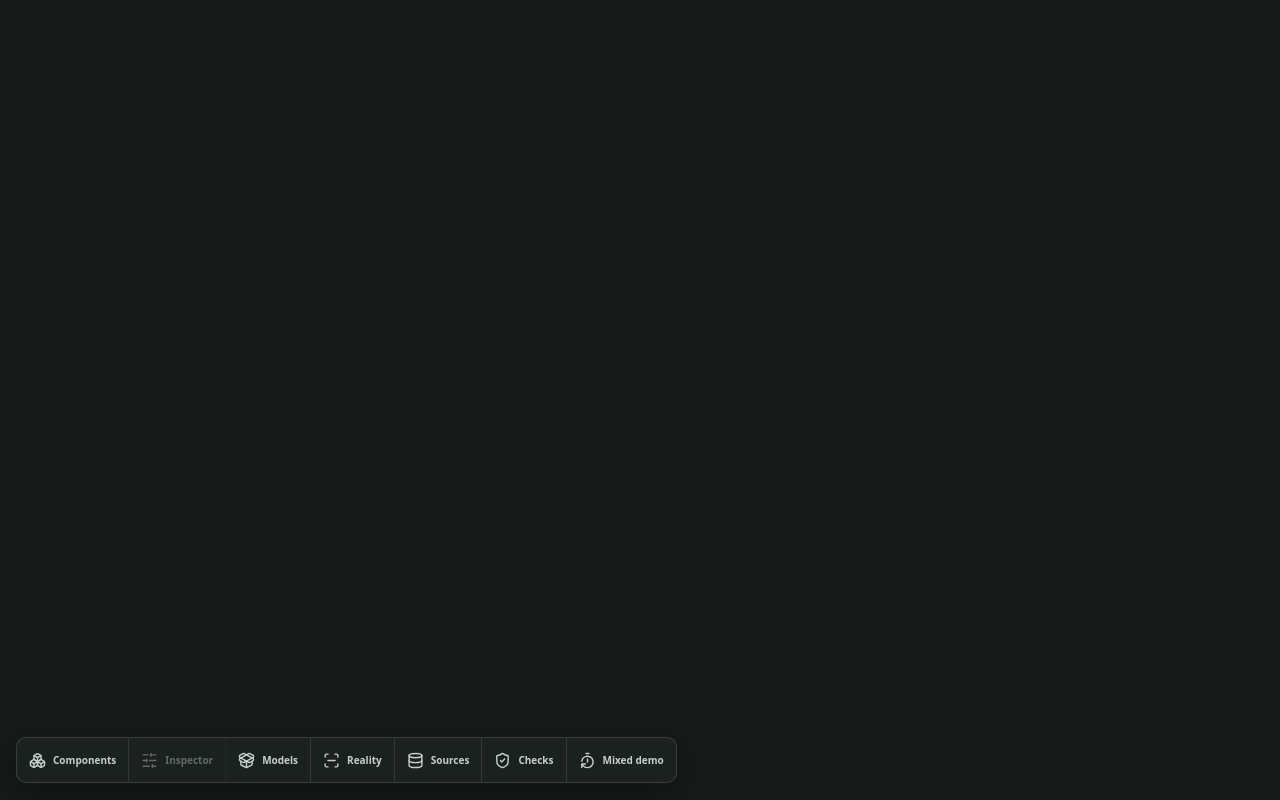
Scenario: Workspace model library › moves from a model export preflight into the Workspace Checks panel
Click the button "Models" at (269, 760), box [226,738,311,782]
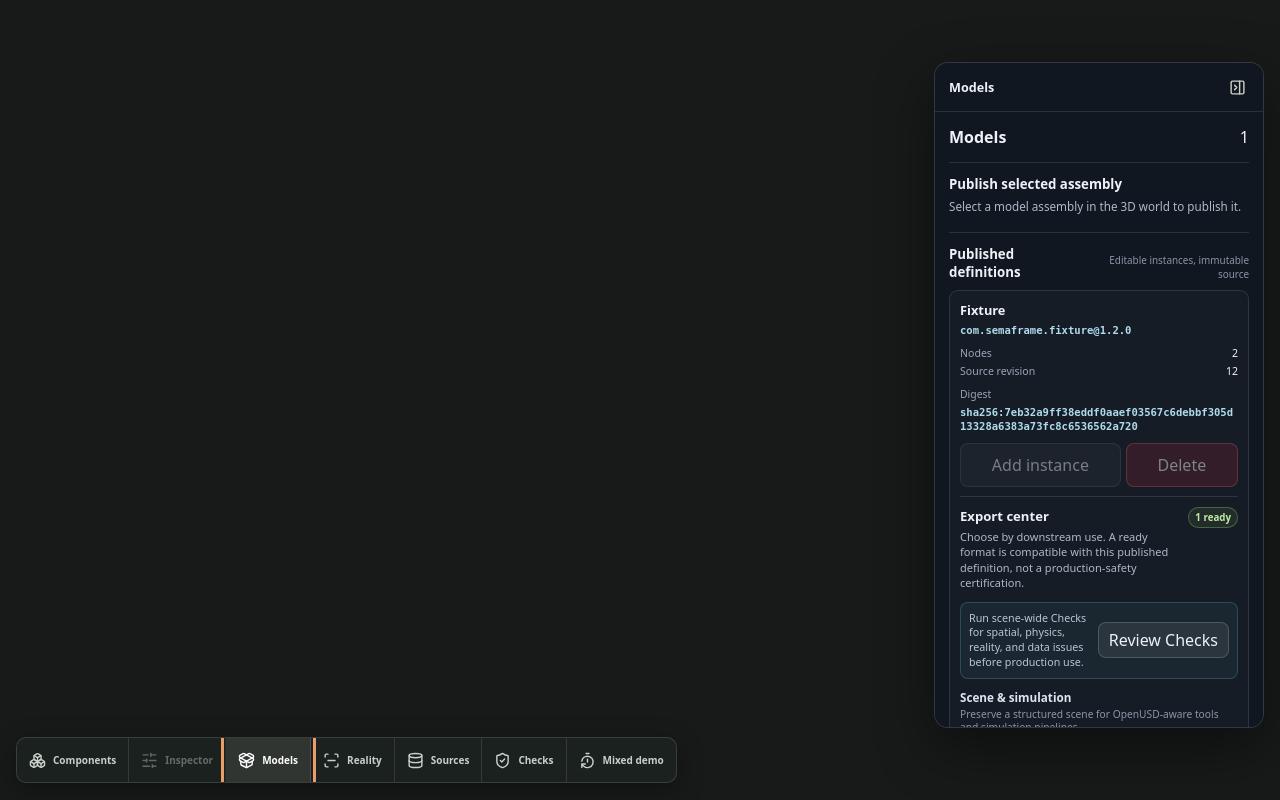
Click the button "Review Checks" at (1163, 640), box [1098,622,1229,658]
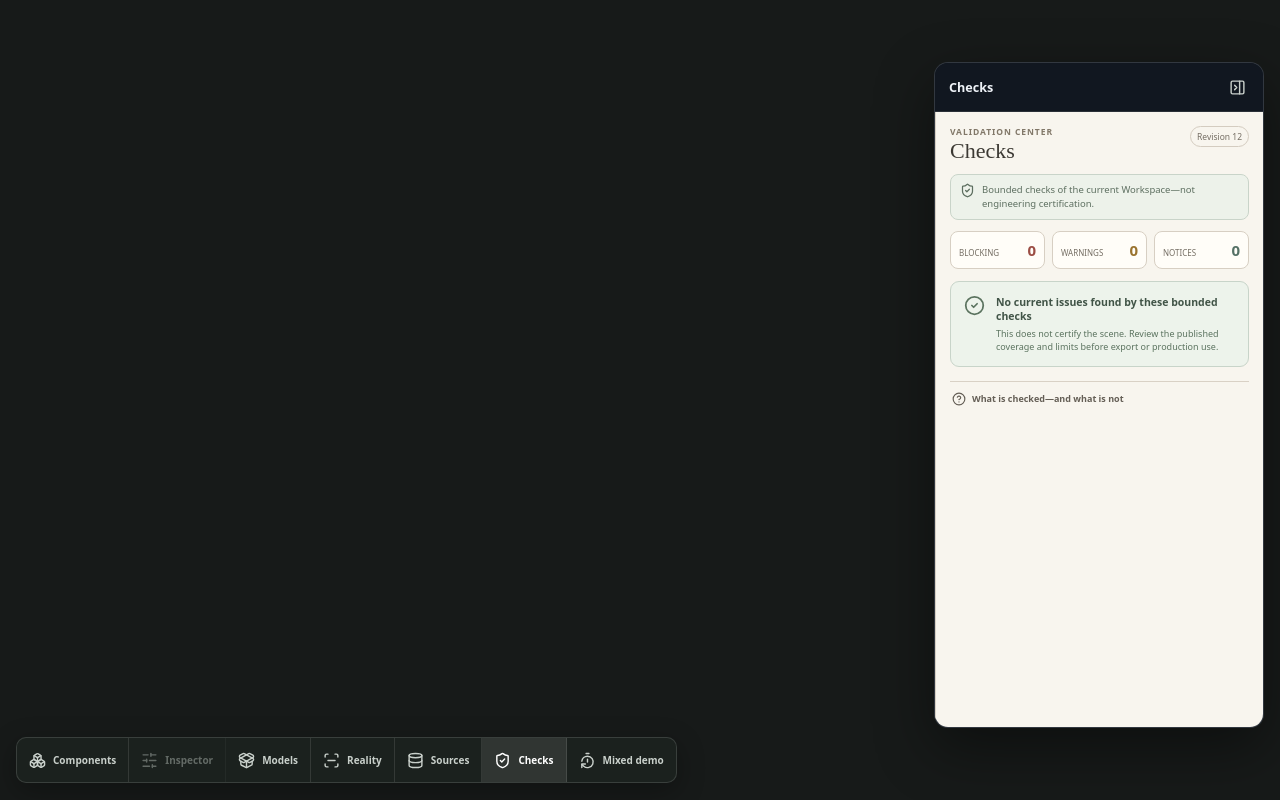
Now the element named "validation panel" is shown, box [934,62,1264,728]
Now the element named "Workspace checks" shows "Revision 12", box [935,112,1263,727]
